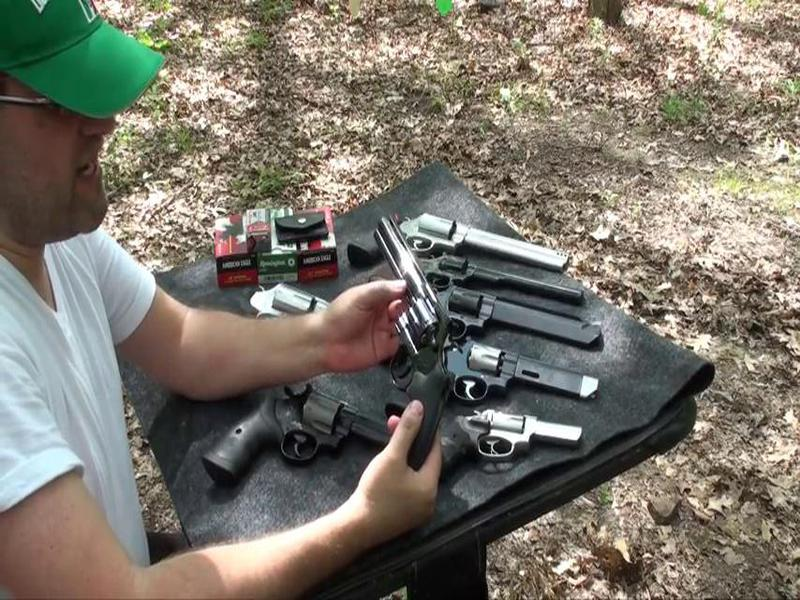Revolver: (351, 201, 485, 460)
